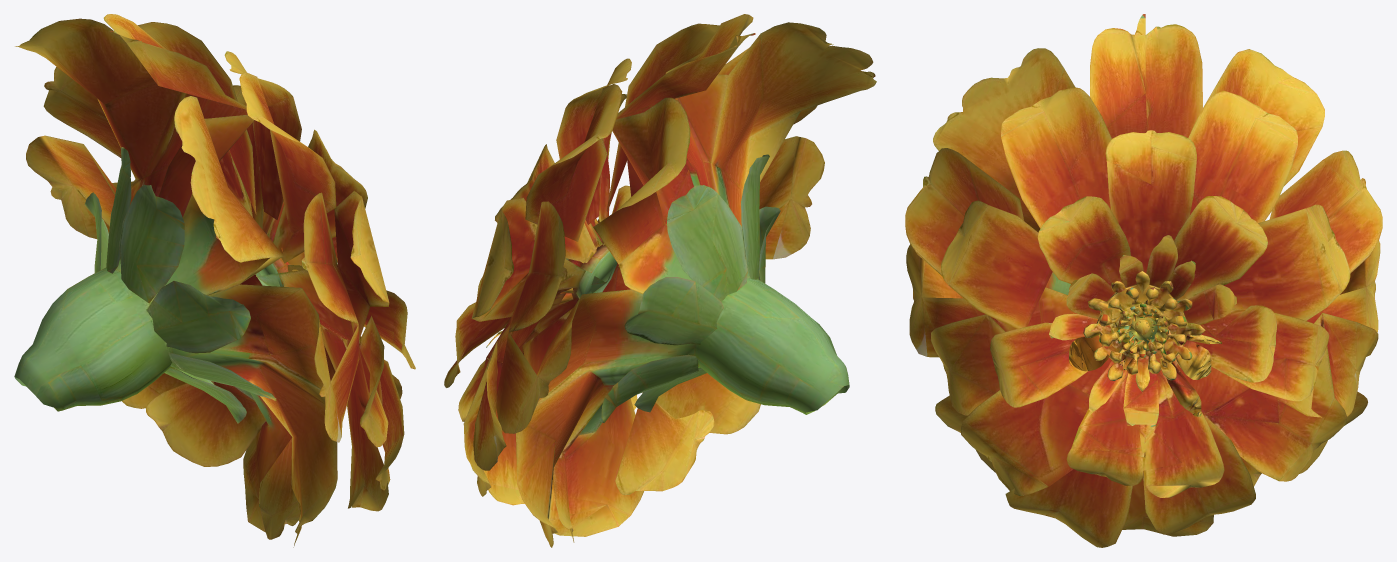
The model's file is marigoldNew.glb.
3 renders of one model, left to right at view 1: azimuth 30°, elevation 25°; view 2: azimuth 150°, elevation 25°; view 3: azimuth 270°, elevation 25°, orthographic. The views are drawn at different scales.
Parts seen in each view (by area): view 1: tripo_node_0a8629e2; view 2: tripo_node_0a8629e2; view 3: tripo_node_0a8629e2.
Boxes of the visible parts, x1=… form: tripo_node_0a8629e2: x1=14, y1=14, x2=415, y2=547; tripo_node_0a8629e2: x1=444, y1=14, x2=876, y2=547; tripo_node_0a8629e2: x1=905, y1=14, x2=1382, y2=547.
Bounding box in the file's own units: 0.6113 × 0.8867 × 0.8379.
1 material, 1 textured.
